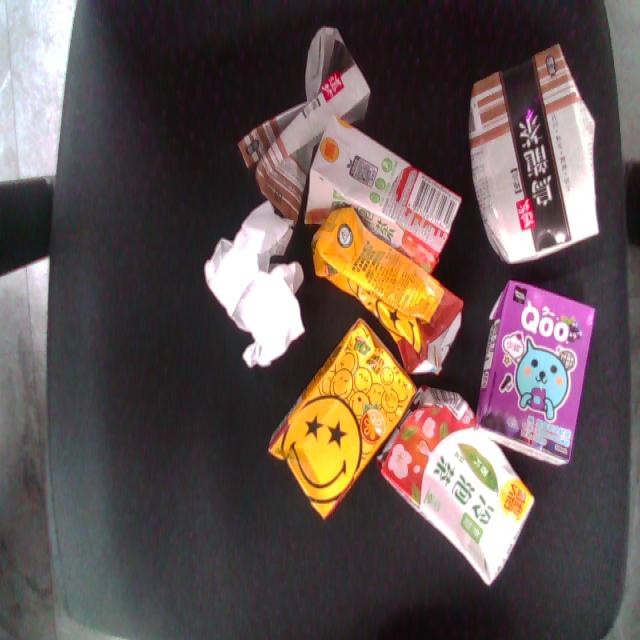juicebox: (337, 355, 587, 607), (229, 300, 459, 548), (189, 12, 420, 250), (437, 28, 632, 285), (268, 188, 499, 400), (271, 103, 491, 298), (459, 263, 608, 479)
paper: (153, 185, 350, 388)
